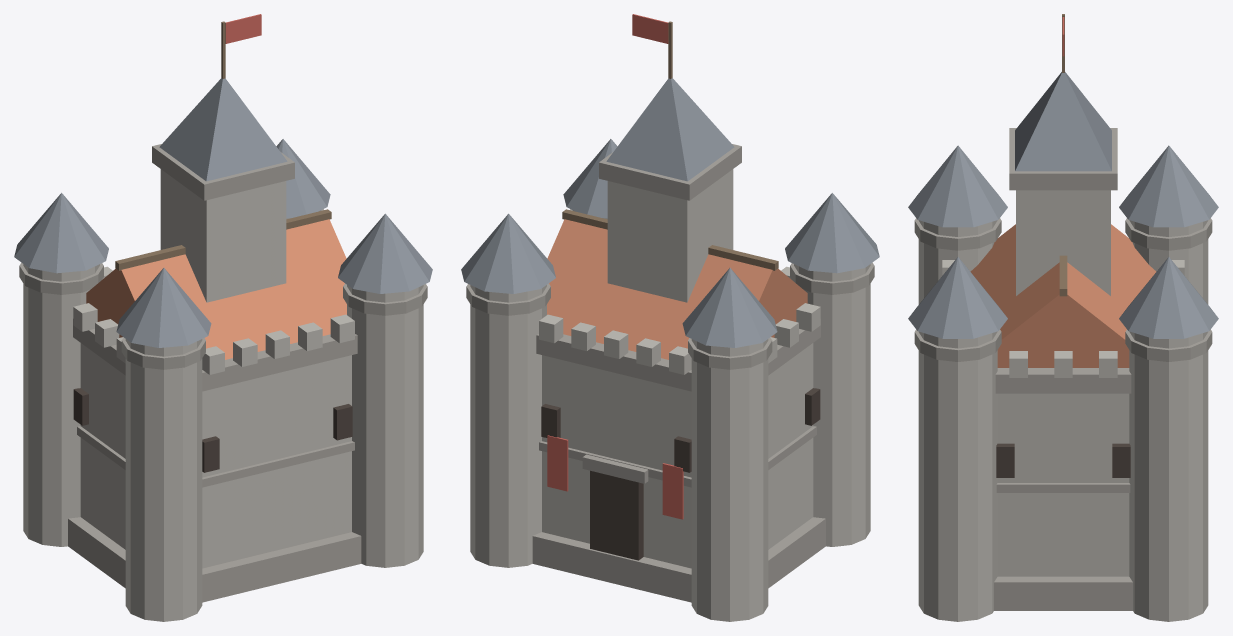
File: keep.glb
3 views of the same model, side by side, from view 1: azimuth 30°, elevation 25°; view 2: azimuth 150°, elevation 25°; view 3: azimuth 270°, elevation 25° (orthographic). The views are drawn at different scales.
Parts seen in each view (by area): view 1: keep; view 2: keep; view 3: keep.
Part boxes in pixels (bbox=[...]): keep: bbox=[14, 14, 432, 621]; keep: bbox=[461, 14, 879, 621]; keep: bbox=[908, 14, 1218, 621].
Bounding box in the file's own units: 13.61 × 22.4 × 11.8.
